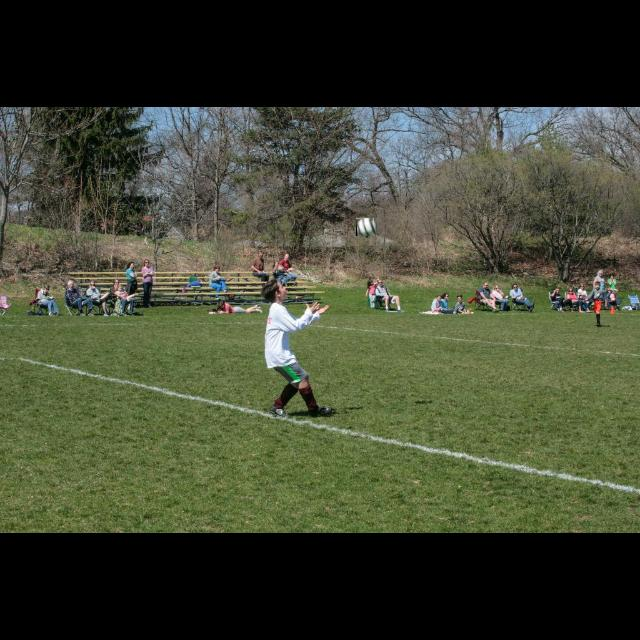Football: (356, 218, 374, 236)
